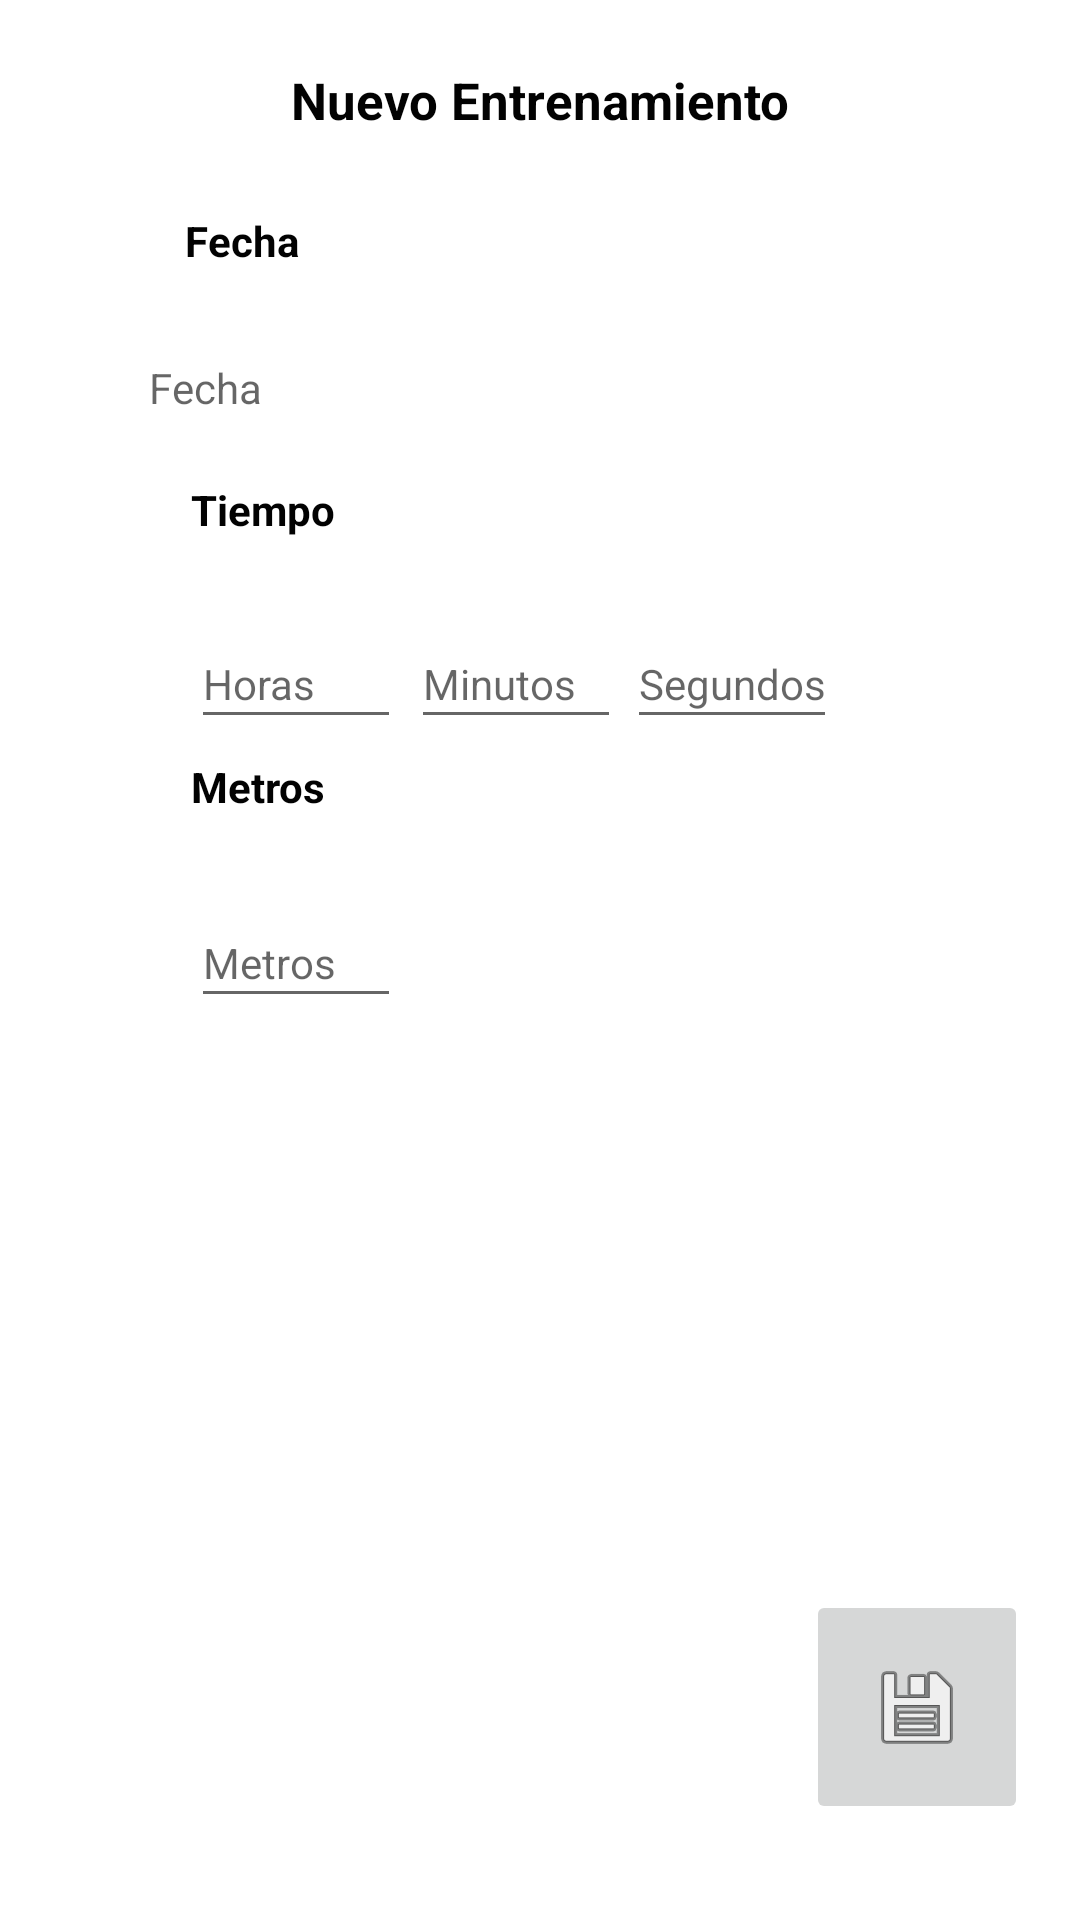

Where to tap for icons on this 1080×1920 app screen, as (x=x, y=y):
save: (x=917, y=1707)
